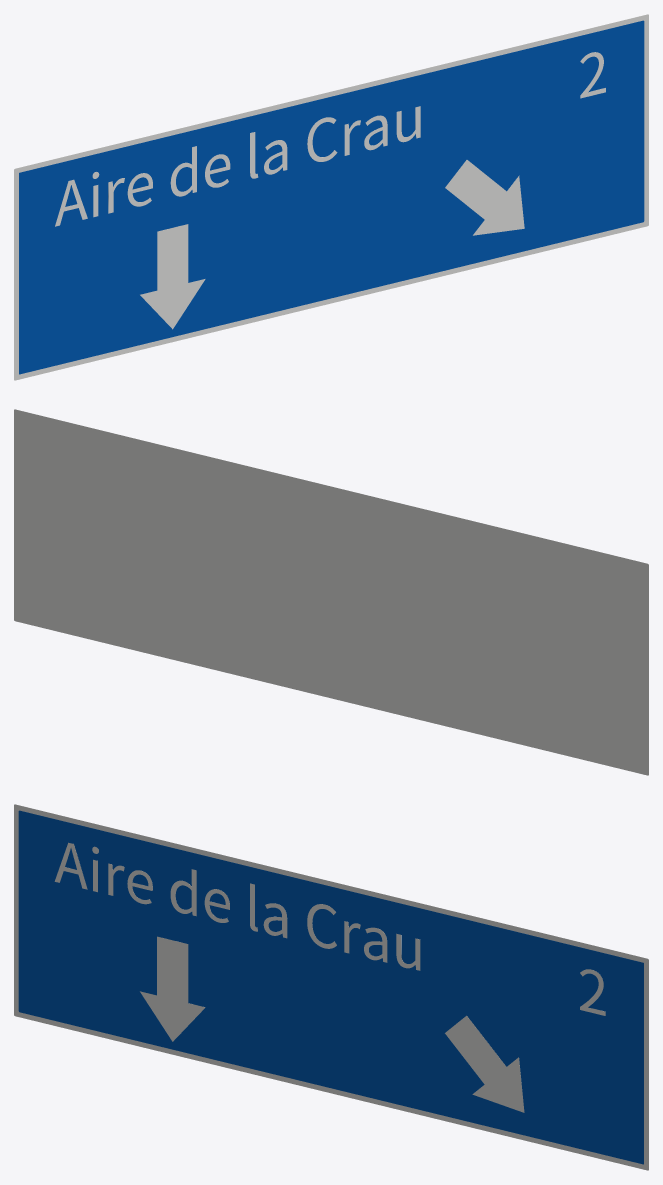
The picture shows the model from 3 angles, top to bottom: view 1: azimuth 30°, elevation 25°; view 2: azimuth 150°, elevation 25°; view 3: azimuth 330°, elevation 25°; orthographic projection.
Parts seen in each view (by area): view 1: Da52a_reg01, Da52a_lis00, Da52a_txt04, Da52a_voie02, Da52a_voie03; view 2: Da52a_lis00; view 3: Da52a_reg01, Da52a_lis00, Da52a_txt04, Da52a_voie02, Da52a_voie03.
Part boxes in pixels (bbox=[...]): Da52a_reg01: bbox=[19, 20, 644, 374]; Da52a_lis00: bbox=[14, 14, 648, 380]; Da52a_txt04: bbox=[55, 106, 420, 226]; Da52a_voie02: bbox=[140, 224, 205, 329]; Da52a_voie03: bbox=[445, 160, 524, 235]; Da52a_lis00: bbox=[14, 409, 648, 775]; Da52a_reg01: bbox=[18, 810, 643, 1164]; Da52a_lis00: bbox=[14, 804, 648, 1170]; Da52a_txt04: bbox=[54, 842, 420, 970]; Da52a_voie02: bbox=[140, 936, 205, 1041]; Da52a_voie03: bbox=[445, 1015, 524, 1112].
Size of the model in its own units: 5.02 by 1.6 by 0.0024.
